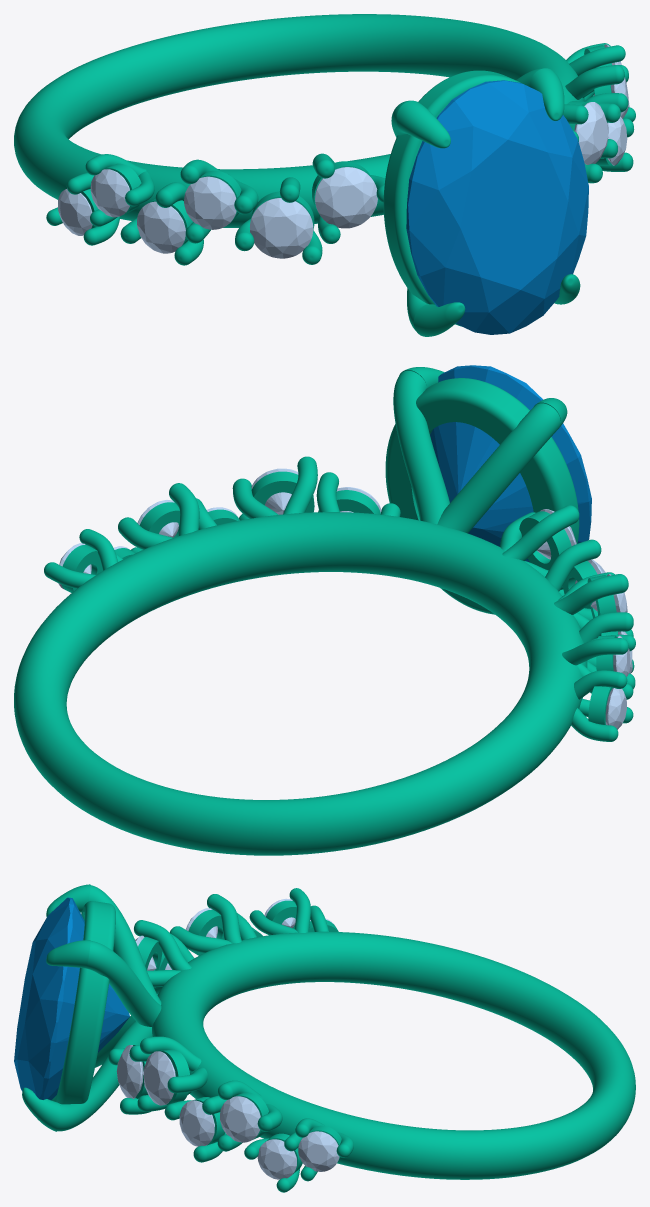
3 views of the same model, one above another, from view 1: azimuth 30°, elevation 25°; view 2: azimuth 150°, elevation 25°; view 3: azimuth 270°, elevation 25° (orthographic). The views are drawn at different scales.
Parts seen in each view (by area): view 1: VR808 12.8.25(base).3dm, Diamond_Oval, Diamond_Round (×8), Bezel (×2); view 2: VR808 12.8.25(base).3dm, Bezel (×7), Diamond_Oval, Diamond_Round; view 3: VR808 12.8.25(base).3dm, Diamond_Oval, Bezel (×5), Diamond_Round (×6).
Boxes of the visible parts, x1,y1,x2,y2 form: VR808 12.8.25(base).3dm: [14, 14, 635, 336]; Diamond_Oval: [406, 80, 588, 334]; Diamond_Round (×8): [58, 102, 627, 258]; Bezel (×2): [105, 70, 520, 326]; VR808 12.8.25(base).3dm: [14, 367, 635, 855]; Bezel (×7): [61, 378, 612, 724]; Diamond_Oval: [430, 365, 591, 562]; Diamond_Round: [605, 688, 626, 729]; VR808 12.8.25(base).3dm: [22, 884, 635, 1192]; Diamond_Oval: [14, 897, 129, 1100]; Bezel (×5): [51, 900, 296, 1104]; Diamond_Round (×6): [116, 1045, 339, 1179].
Size of the model in its own units: 2.58 by 1.06 by 2.87.
